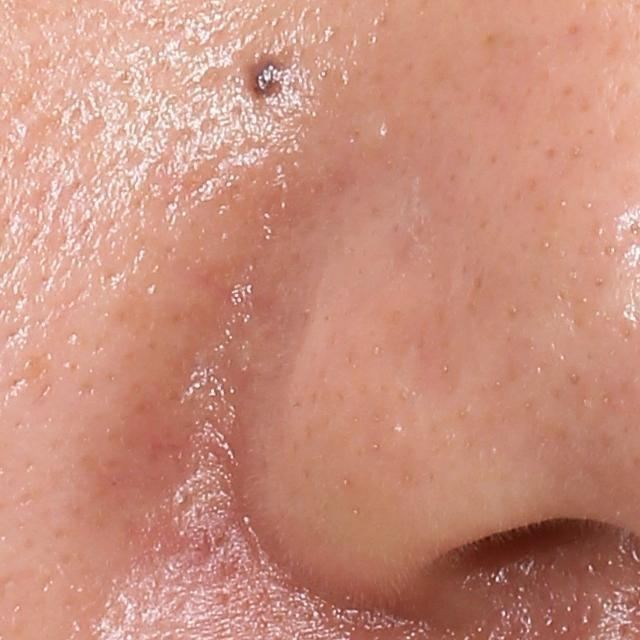nevus: (249, 56, 287, 100)
